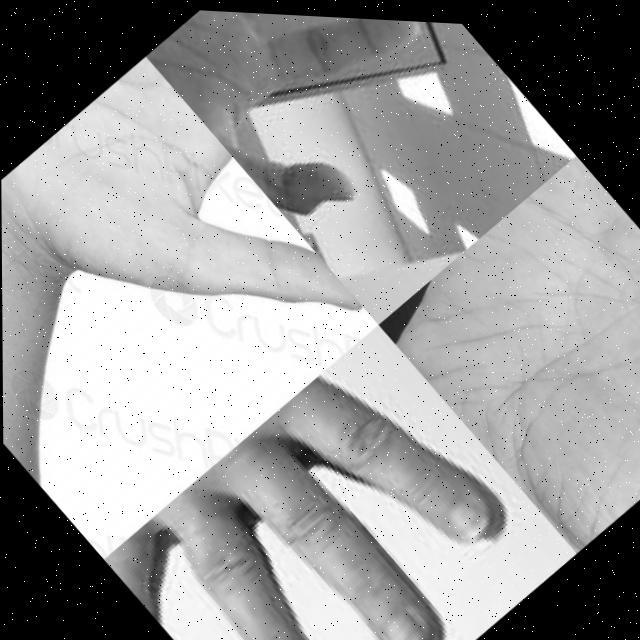no-gloves: (100, 307, 566, 640), (0, 47, 362, 454), (376, 139, 640, 549), (144, 5, 501, 242)
